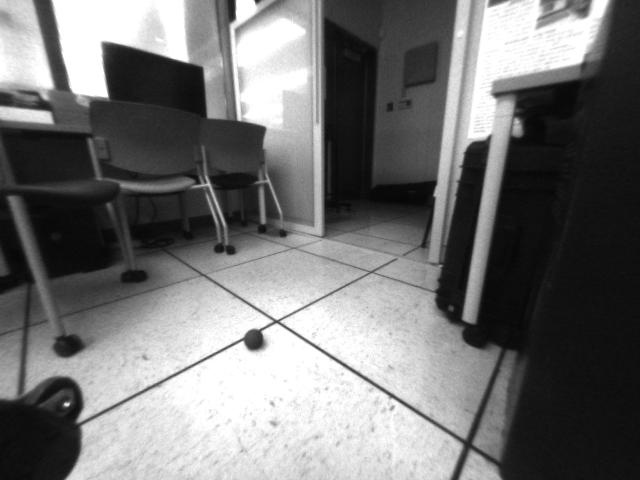dogtoy: (237, 324, 270, 353)
